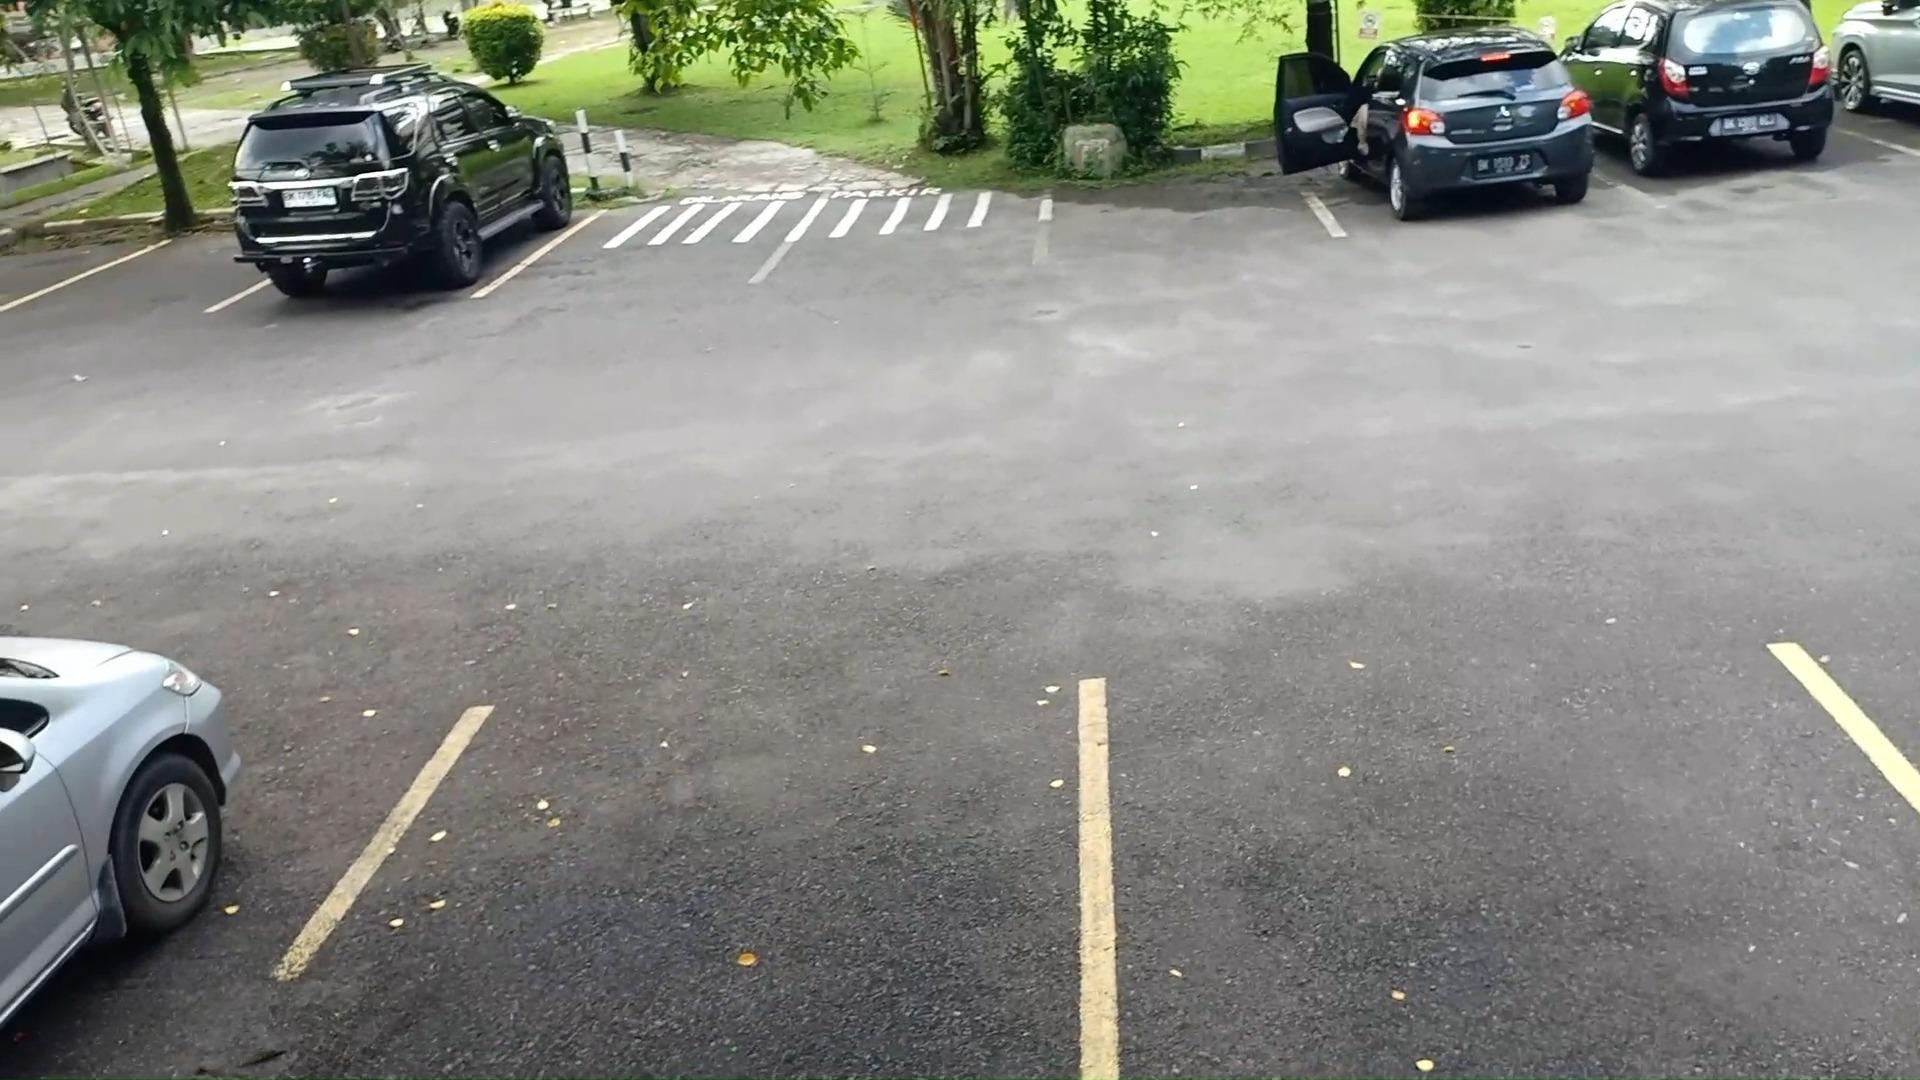empty: (1091, 678, 1920, 1070), (387, 696, 1098, 1080)
occupied: (224, 124, 576, 307), (1312, 52, 1598, 236), (1595, 3, 1846, 206)
